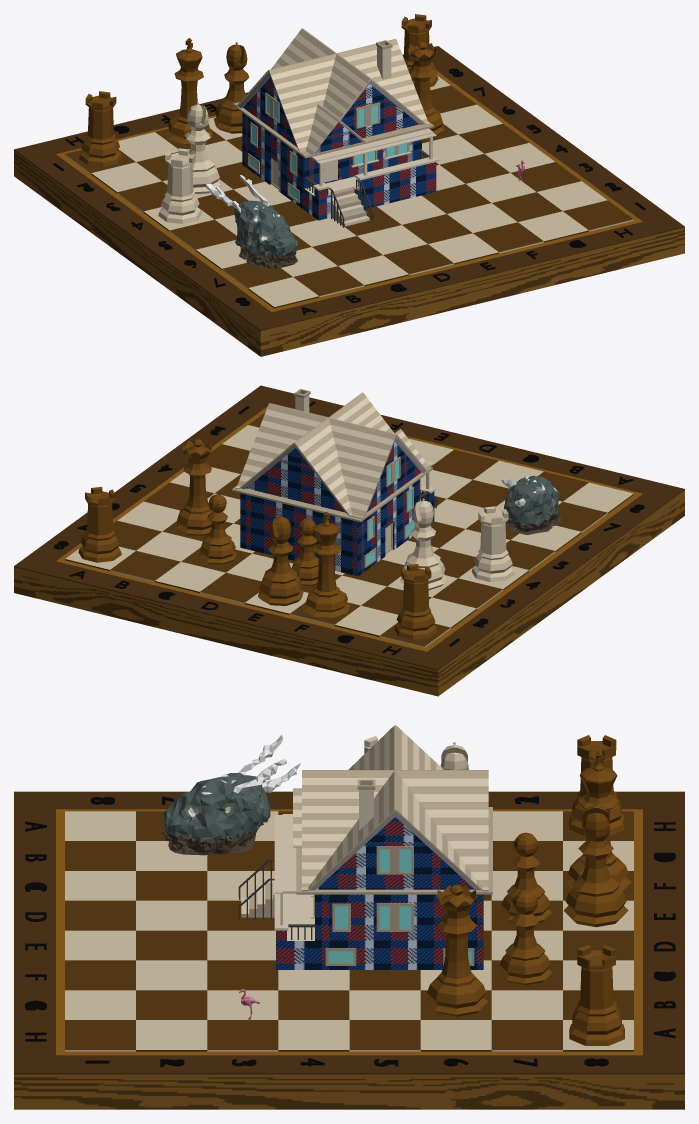
The picture shows the model from 3 angles, top to bottom: view 1: azimuth 30°, elevation 25°; view 2: azimuth 150°, elevation 25°; view 3: azimuth 270°, elevation 25°; orthographic projection. The views are drawn at different scales.
Parts seen in each view (by area): view 1: Cube.002, Cube.171, OBJRANDOM_METEORITE; view 2: Cube.002, Cube.171, OBJRANDOM_METEORITE; view 3: Cube.002, Cube.171, OBJRANDOM_METEORITE.
Boxes of the visible parts, x1,y1,x2,y2 form: Cube.002: (14,14,684,356); Cube.171: (232,28,439,227); OBJRANDOM_METEORITE: (205,175,298,268); Cube.002: (14,385,684,696); Cube.171: (232,389,436,576); OBJRANDOM_METEORITE: (501,475,561,534); Cube.002: (14,735,684,1109); Cube.171: (238,725,492,969); OBJRANDOM_METEORITE: (162,735,300,855).
Size of the model in its own units: 3981 by 1585 by 4012.
Materials: 25 (3 with a texture image).
